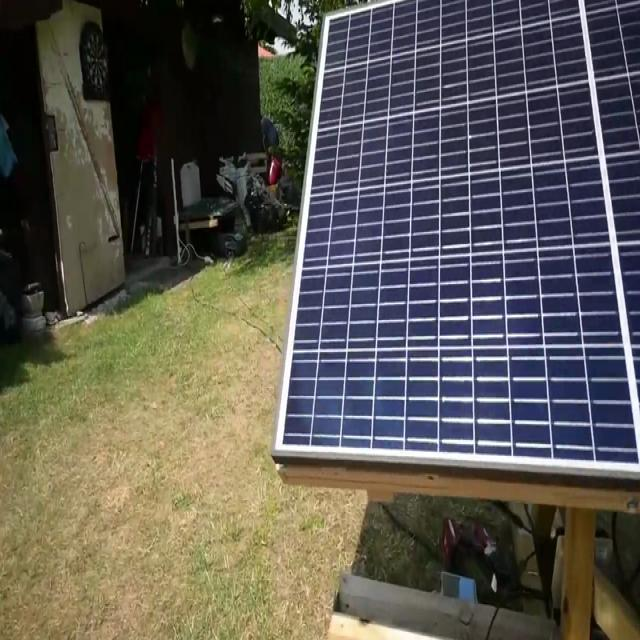Normal Solar Panel: (277, 1, 640, 475)
